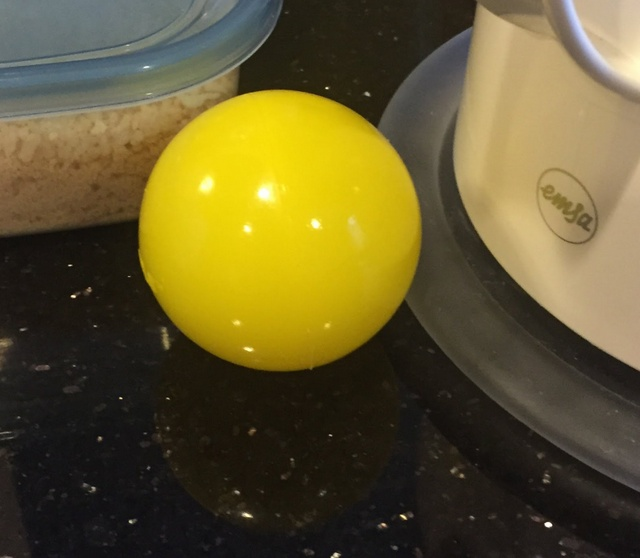ball: (139, 89, 425, 373)
